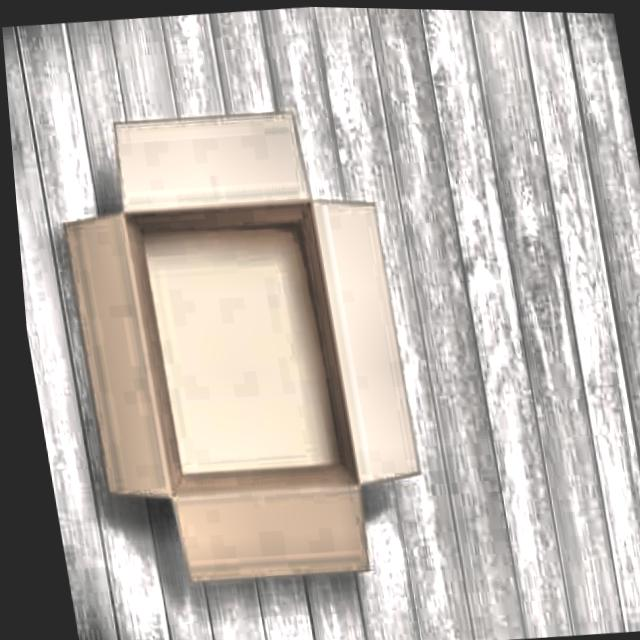Cardbox: (28, 83, 451, 612)
